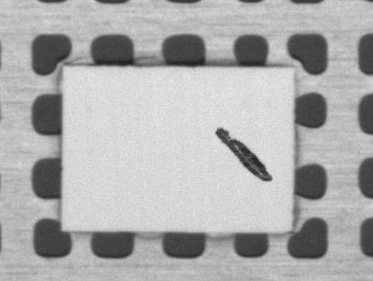DIE_INK: (213, 124, 277, 189)
